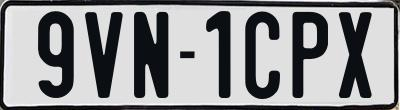1: (203, 11, 233, 98)
9: (37, 9, 73, 101)
C: (243, 10, 280, 100)
N: (131, 11, 168, 101)
P: (291, 10, 327, 99)
V: (85, 11, 124, 98)
X: (337, 12, 375, 98)
